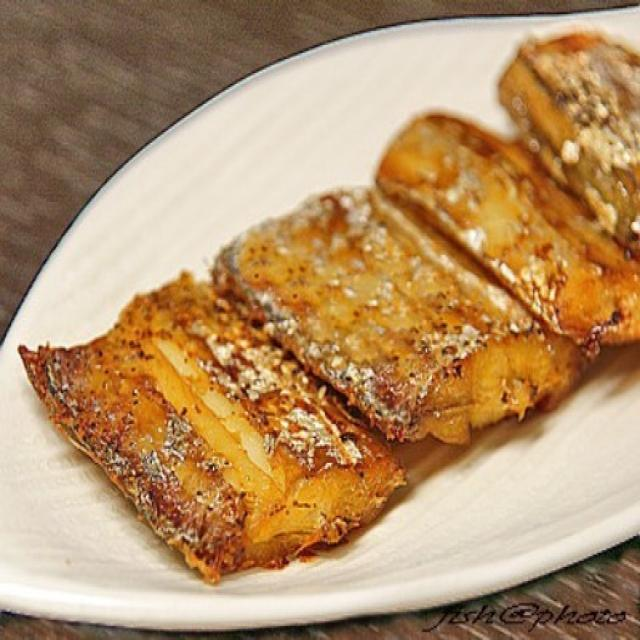熟制海鲜: (17, 23, 623, 612)
